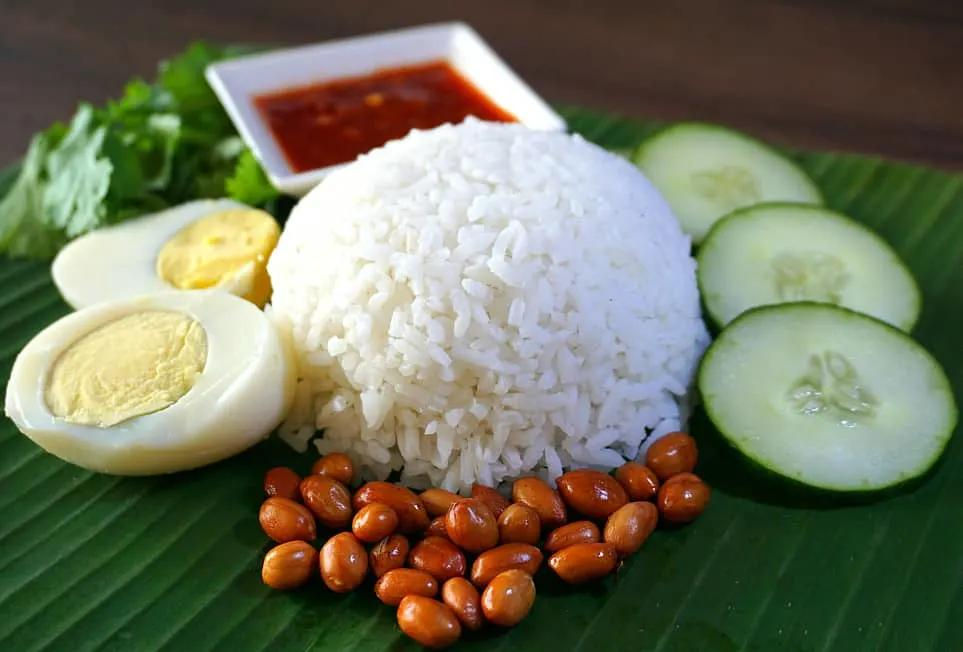Boiled-Egg: (4, 199, 286, 477)
Cucumber: (631, 124, 961, 492)
Peanuts: (257, 433, 711, 652)
Rice: (269, 126, 712, 496)
Sambal: (264, 64, 512, 176)
